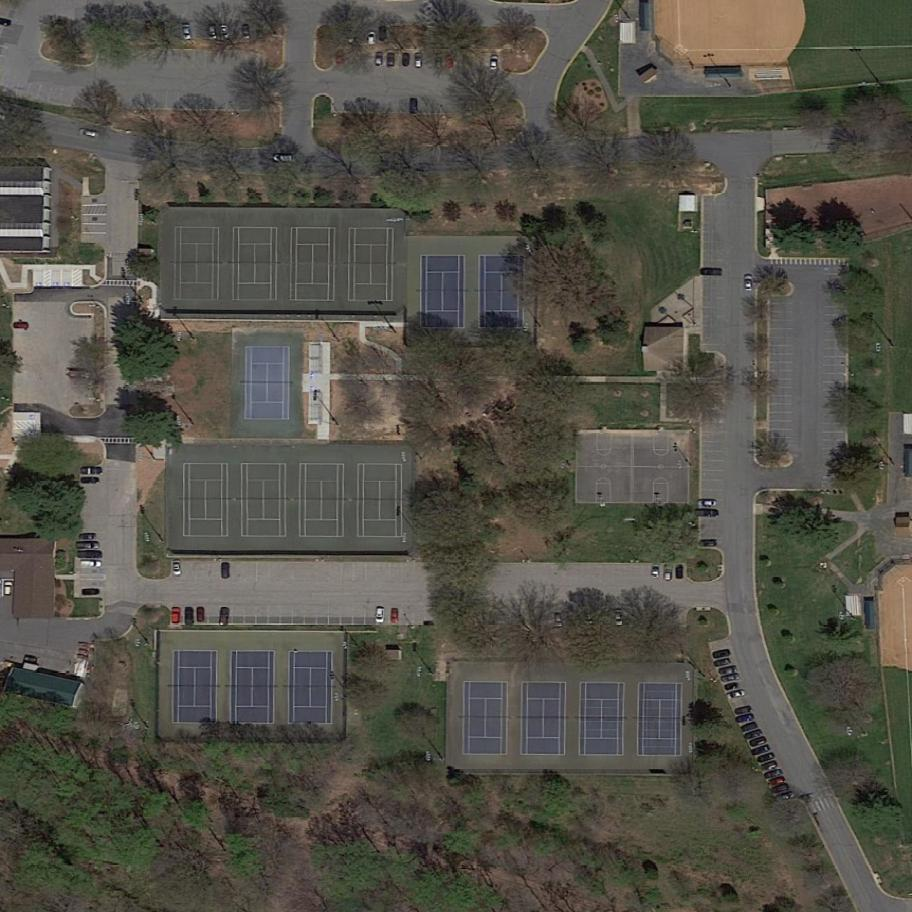small-vehicle: (734, 710, 758, 728), (754, 749, 779, 766), (747, 733, 769, 750), (769, 780, 792, 796), (774, 789, 798, 804), (738, 719, 762, 734), (732, 702, 754, 718), (744, 726, 766, 742), (711, 647, 733, 662), (719, 671, 744, 684), (713, 655, 736, 669), (751, 742, 774, 756), (273, 152, 297, 165), (767, 774, 789, 788), (759, 758, 779, 773), (718, 662, 741, 675), (78, 126, 99, 140), (764, 767, 785, 781), (726, 687, 747, 700), (662, 563, 675, 583), (722, 680, 743, 692), (80, 466, 105, 476), (408, 97, 421, 116), (183, 606, 195, 626), (219, 606, 230, 627), (695, 508, 718, 518), (171, 558, 183, 577), (220, 562, 232, 581), (700, 268, 725, 277), (77, 551, 102, 560), (697, 539, 717, 550), (743, 273, 754, 293), (256, 23, 267, 42), (78, 560, 104, 568), (672, 564, 685, 580), (696, 499, 719, 508), (489, 54, 500, 72), (182, 23, 193, 41), (170, 607, 181, 625), (241, 24, 252, 42), (219, 24, 230, 42), (389, 607, 400, 625), (75, 543, 99, 551), (584, 610, 596, 626), (79, 532, 98, 542), (208, 23, 218, 42), (613, 609, 624, 626), (651, 563, 662, 580), (375, 607, 386, 624), (79, 477, 99, 486), (400, 51, 411, 67), (387, 51, 397, 68), (3, 582, 14, 597), (445, 53, 455, 69), (554, 611, 564, 627), (414, 52, 423, 69), (83, 588, 102, 596), (375, 52, 384, 68), (368, 30, 377, 46), (434, 55, 444, 69), (197, 607, 205, 623)
